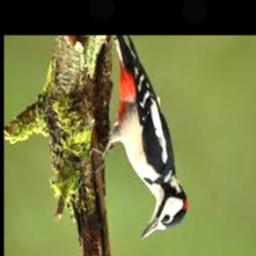Woodpecker: (89, 35, 186, 240)
